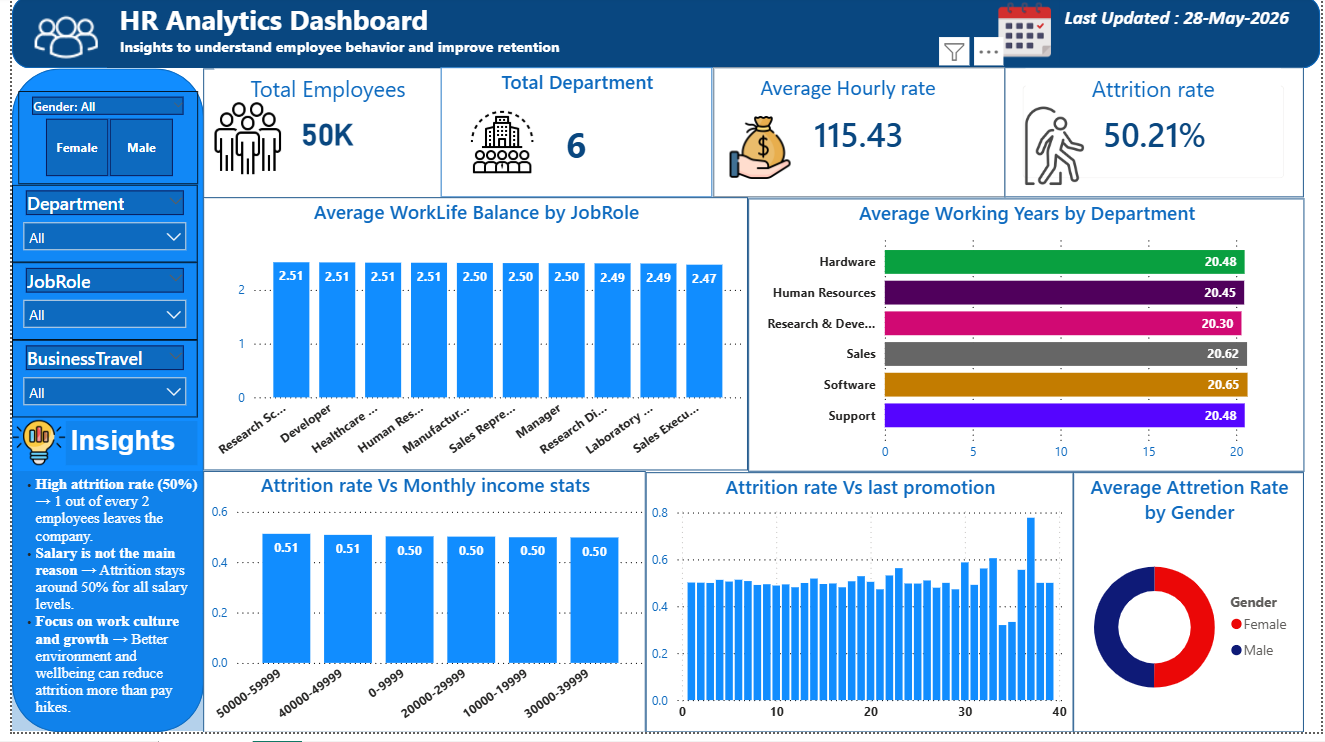

The page's visual inventory and layout, read from the dashboard file:
{"tool":"powerbi","page":{"name":"Page 1","canvas":[1280,720],"ordinal":0},"visuals":[{"type":"shape","box":[0,0,1279.7,70.7],"z":0},{"type":"textbox","box":[92.3,0,489.1,70.7],"z":1000},{"type":"image","box":[13,0,79.4,80.8],"z":2000},{"type":"image","box":[958,4.3,66.4,56.3],"z":3000},{"type":"textbox","box":[1024.4,4.3,239.5,60.6],"z":4000},{"type":"shape","box":[0,70.7,187.6,649.2],"z":5000},{"type":"card","fields":{"Values":["Sheet1.Total Employees"]},"box":[187.6,70.7,242.4,127],"z":6000},{"type":"textbox","box":[197.7,70.7,222.2,43.3],"z":7000},{"type":"image","box":[187.1,104.3,87.1,70],"z":8000},{"type":"card","title":"Total Department","fields":{"Values":["Sheet1.Total Departments"]},"box":[420,70,265.7,127.1],"z":9000},{"type":"cardVisual","fields":{"Data":["Sheet1.Avg Hourly Rate Male RS"]},"box":[685.7,70,285.7,127.1],"z":10000},{"type":"textbox","box":[696.9,72.1,261.1,39],"z":11000},{"type":"barChart","title":"Average Working Years by Department","fields":{"Category":["Sheet1.Department"],"Y":["Avg(Sheet1 (2).TotalWorkingYears)"]},"box":[719.9,197.7,543.9,266.9],"z":12000},{"type":"columnChart","title":"Average WorkLife Balance by JobRole","fields":{"Category":["Sheet1.JobRole"],"Y":["Avg(Sheet1 (2).WorkLifeBalance)"]},"box":[187.1,197.1,532.9,267.1],"z":13000},{"type":"clusteredColumnChart","title":"Attrition rate Vs Monthly income stats","fields":{"Category":["Sheet1 (2).Income_Ranges"],"Y":["Avg(Sheet1.Attretion Rate)"]},"box":[187.1,464.3,432.9,255.7],"z":14000},{"type":"columnChart","title":"Attrition rate Vs last promotion ","fields":{"Category":["Sheet1 (2).YearsSinceLastPromotion"],"Y":["Avg(Sheet1.Attretion Rate)"]},"box":[620,465.7,418.6,254.3],"z":15000},{"type":"image","box":[444.3,111.4,71.4,62.9],"z":16000},{"type":"cardVisual","fields":{"Data":["Sheet1.Overall_Attrition_Rate"]},"box":[971.4,70,292.9,127.1],"z":17000},{"type":"textbox","box":[991.7,70.9,249.5,40.4],"z":18000},{"type":"donutChart","title":"Average Attretion Rate by Gender","fields":{"Category":["Sheet1.Gender"],"Y":["Avg(Sheet1.Attretion Rate)"]},"box":[1038.6,465.7,225.7,254.3],"z":19000},{"type":"image","box":[971.4,104.3,98.6,85.7],"z":20000},{"type":"image","box":[697.1,117.1,70,61.4],"z":21000},{"type":"slicer","fields":{"Values":["Sheet1.Gender"]},"box":[5.7,92.9,175.7,91.4],"z":22000},{"type":"slicer","fields":{"Values":["Sheet1.Department"]},"box":[0,184.3,181.4,75.7],"z":23000},{"type":"slicer","fields":{"Values":["Sheet1.JobRole"]},"box":[0,260,181.4,75.7],"z":24000},{"type":"slicer","fields":{"Values":["Sheet1.BusinessTravel"]},"box":[0,335.7,181.4,75.7],"z":25000},{"type":"textbox","box":[0,464.3,187.1,254.3],"z":26000},{"type":"image","box":[0,410,52.9,54.3],"z":27000},{"type":"textbox","box":[52.9,415.7,128.6,42.9],"z":28000}]}

Visuals, with their boxes in screenshot pixels (x1, y1, x2, y2), scaled from the page's 1280x720 canvas onto the 1325x742 screenshot:
shape: <bbox>0, 0, 1324, 73</bbox>
textbox: <bbox>96, 0, 602, 73</bbox>
image: <bbox>13, 0, 96, 83</bbox>
image: <bbox>992, 4, 1060, 62</bbox>
textbox: <bbox>1060, 4, 1308, 67</bbox>
shape: <bbox>0, 73, 194, 741</bbox>
card - Sheet1.Total Employees: <bbox>194, 73, 445, 204</bbox>
textbox: <bbox>205, 73, 435, 117</bbox>
image: <bbox>194, 107, 284, 180</bbox>
"Total Department" card: <bbox>435, 72, 710, 203</bbox>
cardVisual - Sheet1.Avg Hourly Rate Male RS: <bbox>710, 72, 1006, 203</bbox>
textbox: <bbox>721, 74, 992, 114</bbox>
"Average Working Years by Department" barChart: <bbox>745, 204, 1308, 479</bbox>
"Average WorkLife Balance by JobRole" columnChart: <bbox>194, 203, 745, 478</bbox>
"Attrition rate Vs Monthly income stats" clusteredColumnChart: <bbox>194, 478, 642, 741</bbox>
"Attrition rate Vs last promotion " columnChart: <bbox>642, 480, 1075, 741</bbox>
image: <bbox>460, 115, 534, 180</bbox>
cardVisual - Sheet1.Overall_Attrition_Rate: <bbox>1006, 72, 1309, 203</bbox>
textbox: <bbox>1027, 73, 1285, 115</bbox>
"Average Attretion Rate by Gender" donutChart: <bbox>1075, 480, 1309, 741</bbox>
image: <bbox>1006, 107, 1108, 196</bbox>
image: <bbox>722, 121, 794, 184</bbox>
slicer - Sheet1.Gender: <bbox>6, 96, 188, 190</bbox>
slicer - Sheet1.Department: <bbox>0, 190, 188, 268</bbox>
slicer - Sheet1.JobRole: <bbox>0, 268, 188, 346</bbox>
slicer - Sheet1.BusinessTravel: <bbox>0, 346, 188, 424</bbox>
textbox: <bbox>0, 478, 194, 741</bbox>
image: <bbox>0, 423, 55, 478</bbox>
textbox: <bbox>55, 428, 188, 473</bbox>
